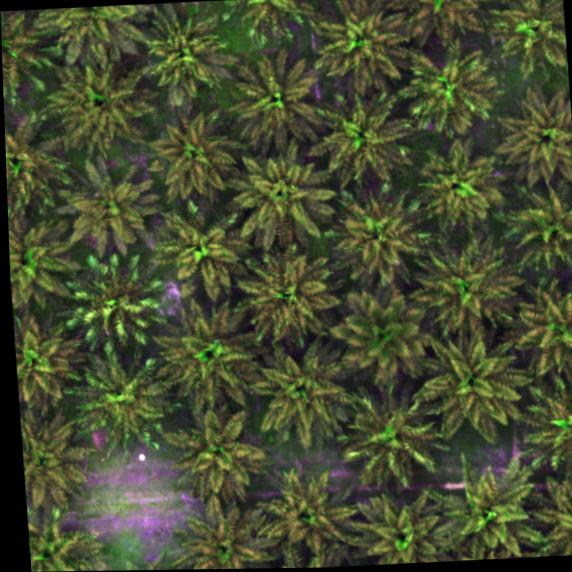oilpalm: (211, 132, 344, 252), (153, 297, 266, 420), (245, 329, 355, 454), (229, 231, 350, 340), (308, 78, 421, 192), (339, 371, 448, 489), (412, 224, 521, 341), (213, 45, 334, 147), (150, 201, 257, 313), (325, 276, 439, 380), (417, 325, 529, 430), (64, 238, 172, 344), (70, 332, 180, 436), (322, 182, 433, 282), (135, 5, 239, 105), (258, 464, 363, 561), (50, 156, 159, 249), (43, 53, 150, 145), (139, 115, 247, 206), (171, 412, 275, 505), (346, 480, 456, 566), (314, 0, 417, 91), (406, 136, 510, 223), (441, 466, 541, 551), (20, 406, 103, 507), (500, 82, 572, 190), (403, 47, 499, 126), (8, 203, 80, 306), (12, 308, 89, 399), (4, 103, 74, 203), (180, 498, 272, 570), (25, 498, 109, 572), (519, 277, 572, 378), (0, 7, 53, 102), (499, 0, 568, 71), (514, 185, 572, 269), (528, 376, 572, 477), (397, 0, 494, 40), (53, 3, 142, 33), (259, 544, 367, 568), (541, 474, 572, 556), (438, 538, 536, 561), (107, 557, 184, 571)
